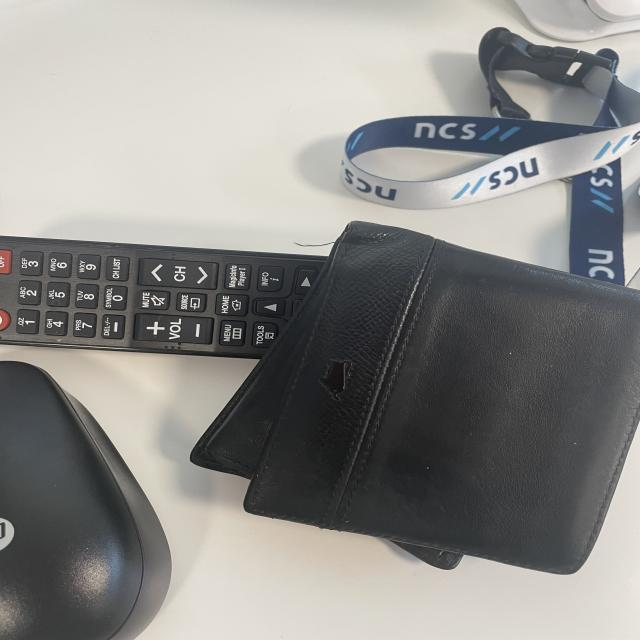remote: (0, 234, 331, 361)
